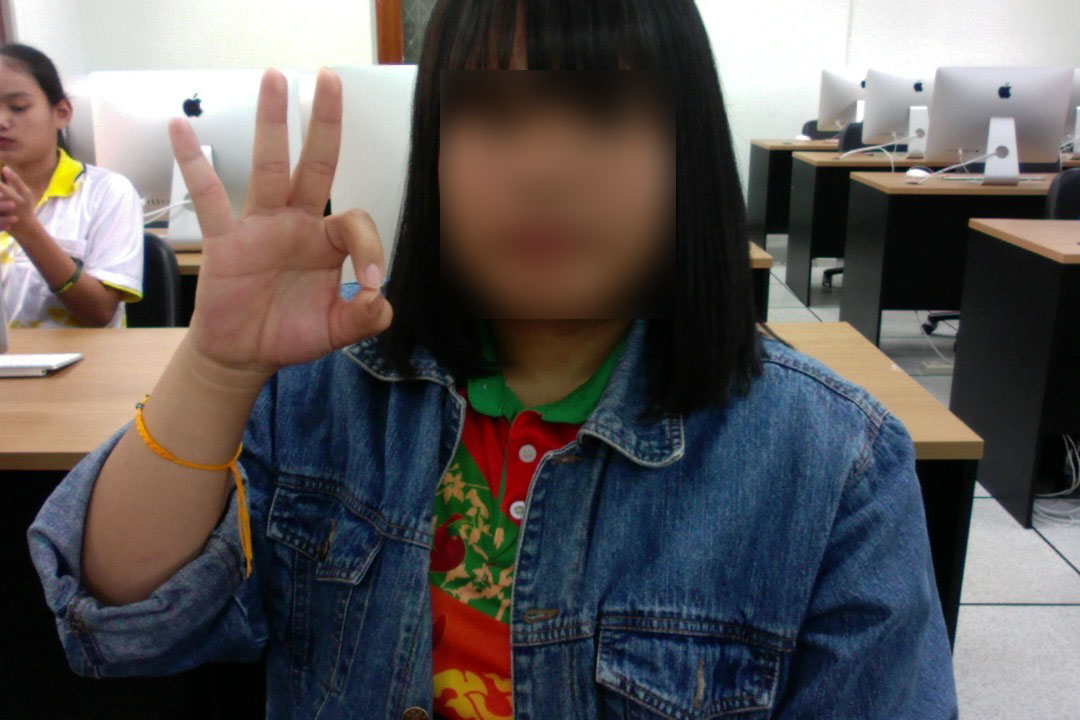for: (156, 59, 405, 393)
